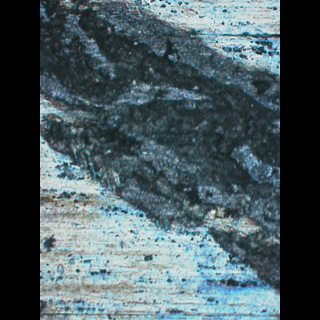d: (40, 0, 279, 304)
